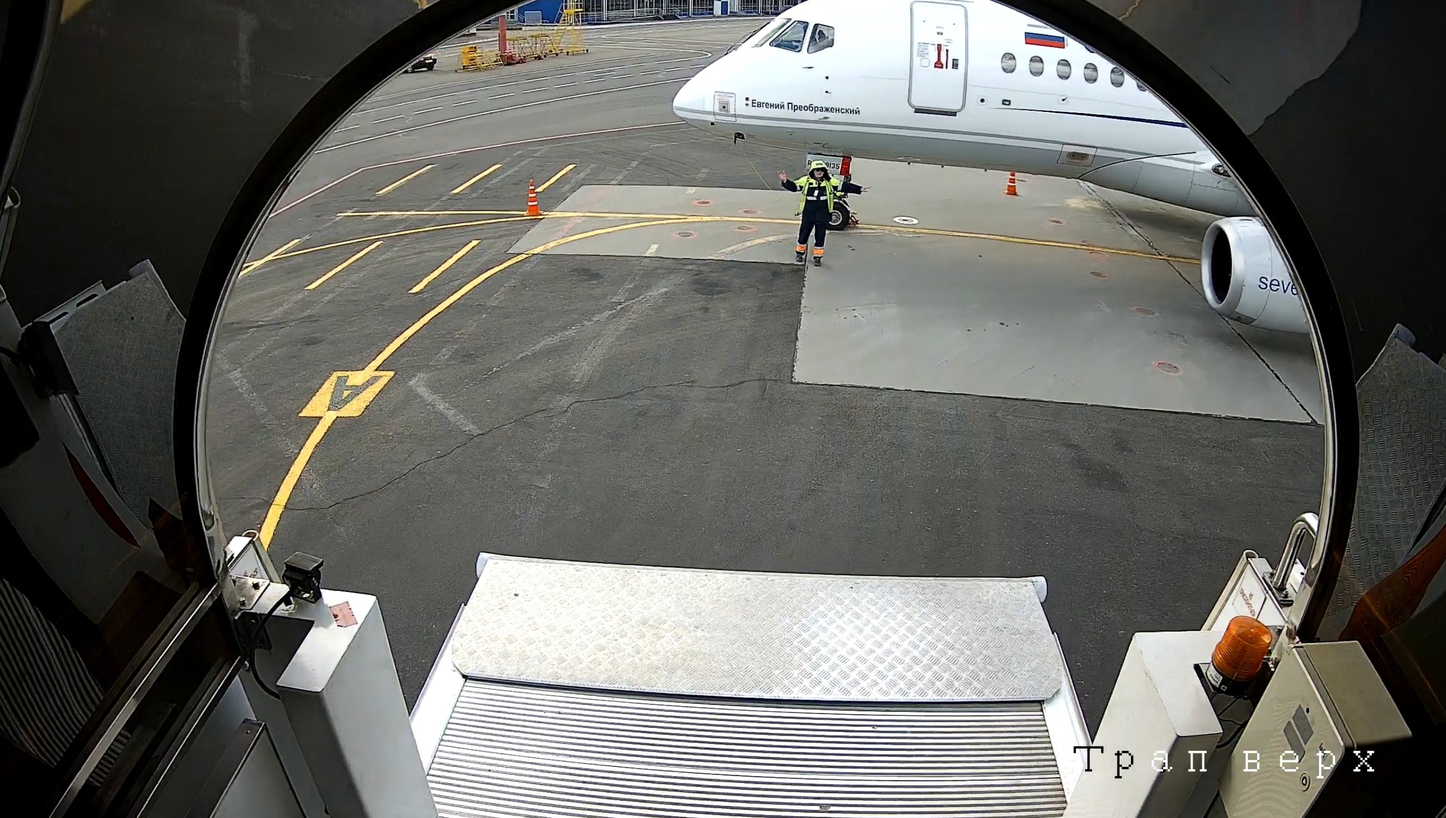boots: (843, 208, 861, 231)
wheels: (828, 199, 848, 230)
